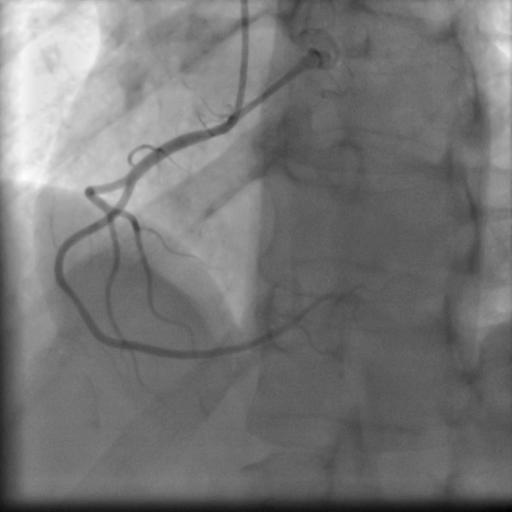Stenosis: (64, 288, 99, 330)
